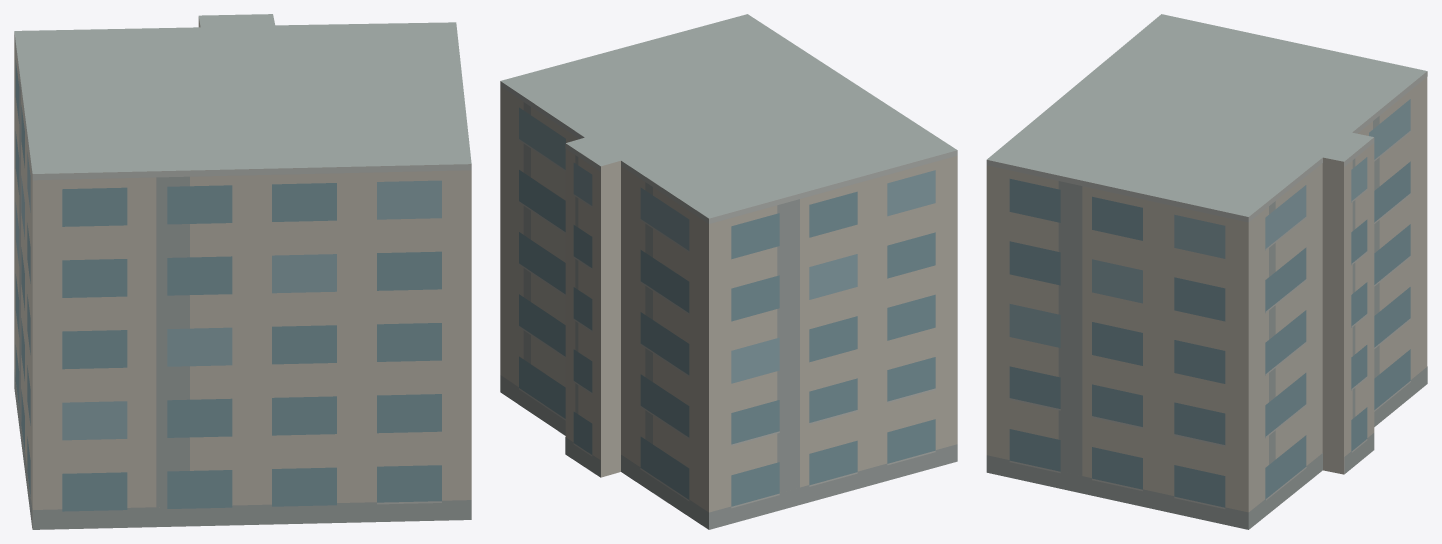
The model's file is survey-upis-32892032.glb.
3 renders of one model, left to right at view 1: azimuth 30°, elevation 25°; view 2: azimuth 150°, elevation 25°; view 3: azimuth 270°, elevation 25°, orthographic. The views are drawn at different scales.
Parts seen in each view (by area): view 1: survey-upis-32892032.tmp; view 2: survey-upis-32892032.tmp; view 3: survey-upis-32892032.tmp.
Part boxes in pixels (x1,y1,x2,y2): survey-upis-32892032.tmp: (14,14,471,529); survey-upis-32892032.tmp: (500,14,957,529); survey-upis-32892032.tmp: (986,14,1427,529).
Bounding box in the file's own units: 19.5 × 14 × 17.89.
